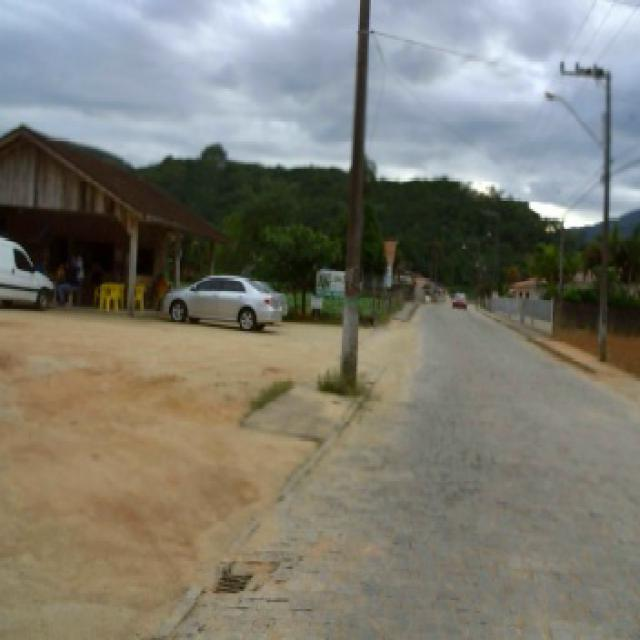Poth-hole: (211, 564, 260, 596)
